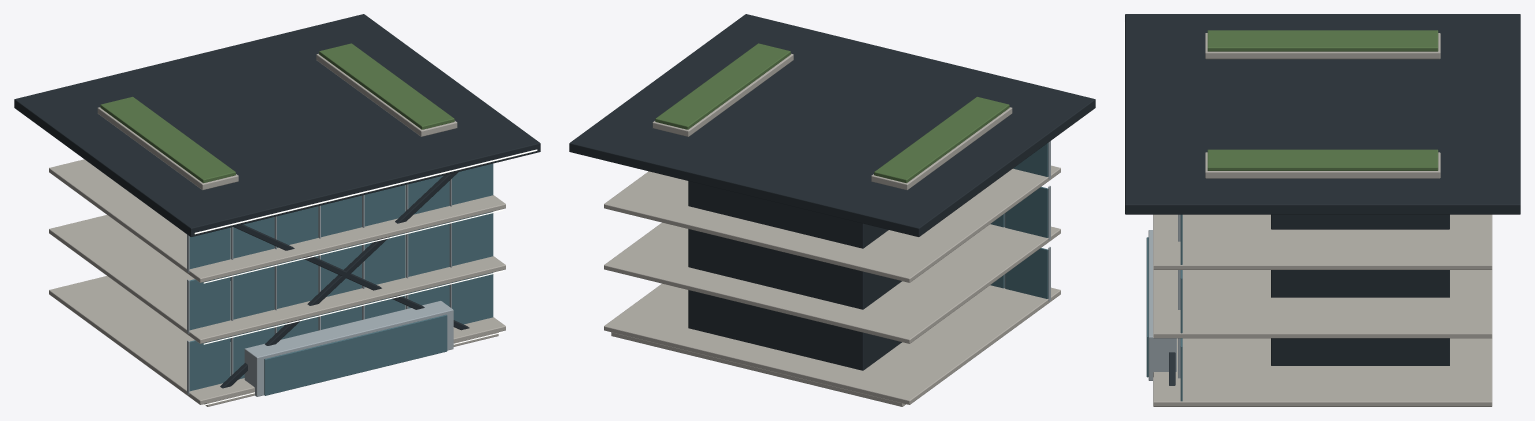
Rendered from building-BfWwN8dS.glb.
The picture shows the model from 3 angles, left to right: view 1: azimuth 30°, elevation 25°; view 2: azimuth 150°, elevation 25°; view 3: azimuth 270°, elevation 25°; orthographic projection. The views are drawn at different scales.
Parts seen in each view (by area): view 1: roof, floor_slab.001, floor_slab.002, floor_slab, entrance_glass, entrance_frame, roof_planting.001, roof_planting, facade_glass.007, facade_glass, facade_brace, facade_glass.008 (+24 smaller); view 2: roof, core, floor_slab.001, floor_slab, floor_slab.002, roof_planting.001, roof_planting, facade_glass.007, facade_glass, base, roof_planter.001, roof_planter (+1 smaller); view 3: roof, floor_slab.001, floor_slab, floor_slab.002, core, roof_planting, roof_planting.001, roof_planter, roof_planter.001, entrance_frame, entrance_glass.
Part boxes in pixels (bbox=[...]): roof: bbox=[14, 14, 540, 236]; floor_slab.001: bbox=[49, 215, 505, 343]; floor_slab.002: bbox=[49, 159, 505, 282]; floor_slab: bbox=[49, 276, 505, 404]; entrance_glass: bbox=[264, 314, 447, 395]; entrance_frame: bbox=[244, 301, 453, 396]; roof_planting.001: bbox=[319, 43, 454, 129]; roof_planting: bbox=[100, 96, 235, 182]; facade_glass.007: bbox=[189, 275, 230, 330]; facade_glass: bbox=[189, 336, 230, 391]; facade_brace: bbox=[220, 172, 458, 388]; facade_glass.008: bbox=[233, 265, 274, 319]; roof: bbox=[569, 14, 1095, 236]; core: bbox=[688, 181, 901, 370]; floor_slab.001: bbox=[604, 222, 1060, 343]; floor_slab: bbox=[604, 283, 1060, 404]; floor_slab.002: bbox=[604, 165, 1060, 282]; roof_planting.001: bbox=[655, 43, 790, 129]; roof_planting: bbox=[874, 96, 1009, 182]; facade_glass.007: bbox=[1005, 186, 1048, 237]; facade_glass: bbox=[1005, 248, 1048, 298]; base: bbox=[611, 332, 905, 406]; roof_planter.001: bbox=[652, 53, 793, 136]; roof_planter: bbox=[871, 107, 1012, 190]; roof: bbox=[1125, 14, 1520, 214]; floor_slab.001: bbox=[1153, 270, 1492, 338]; floor_slab: bbox=[1153, 338, 1492, 406]; floor_slab.002: bbox=[1153, 214, 1492, 269]; core: bbox=[1271, 214, 1449, 365]; roof_planting: bbox=[1207, 30, 1438, 51]; roof_planting.001: bbox=[1207, 149, 1438, 170]; roof_planter: bbox=[1205, 33, 1440, 59]; roof_planter.001: bbox=[1205, 152, 1440, 178]; entrance_frame: bbox=[1148, 230, 1176, 380]; entrance_glass: bbox=[1146, 237, 1148, 377].
Size of the model in its own units: 48 by 27.11 by 42.08.
